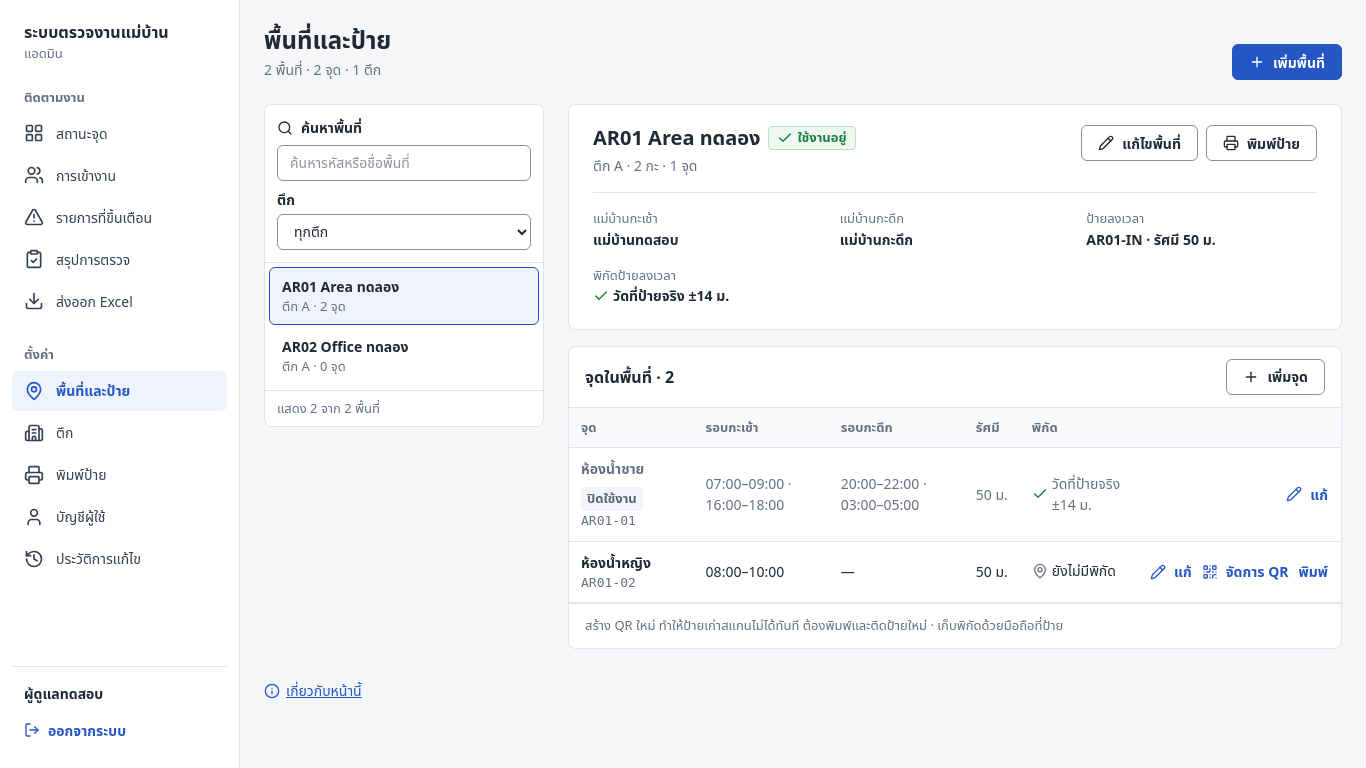
Scenario: SignPanel (D4, facility-0045, 0038, 0021) › a deactivated point gets no new QR (facility-0021 rule 4)
Click the button with aria-label "แก้ไข AR01-01" at (1307, 494), box [1285,476,1329,512]
(page scrolled)
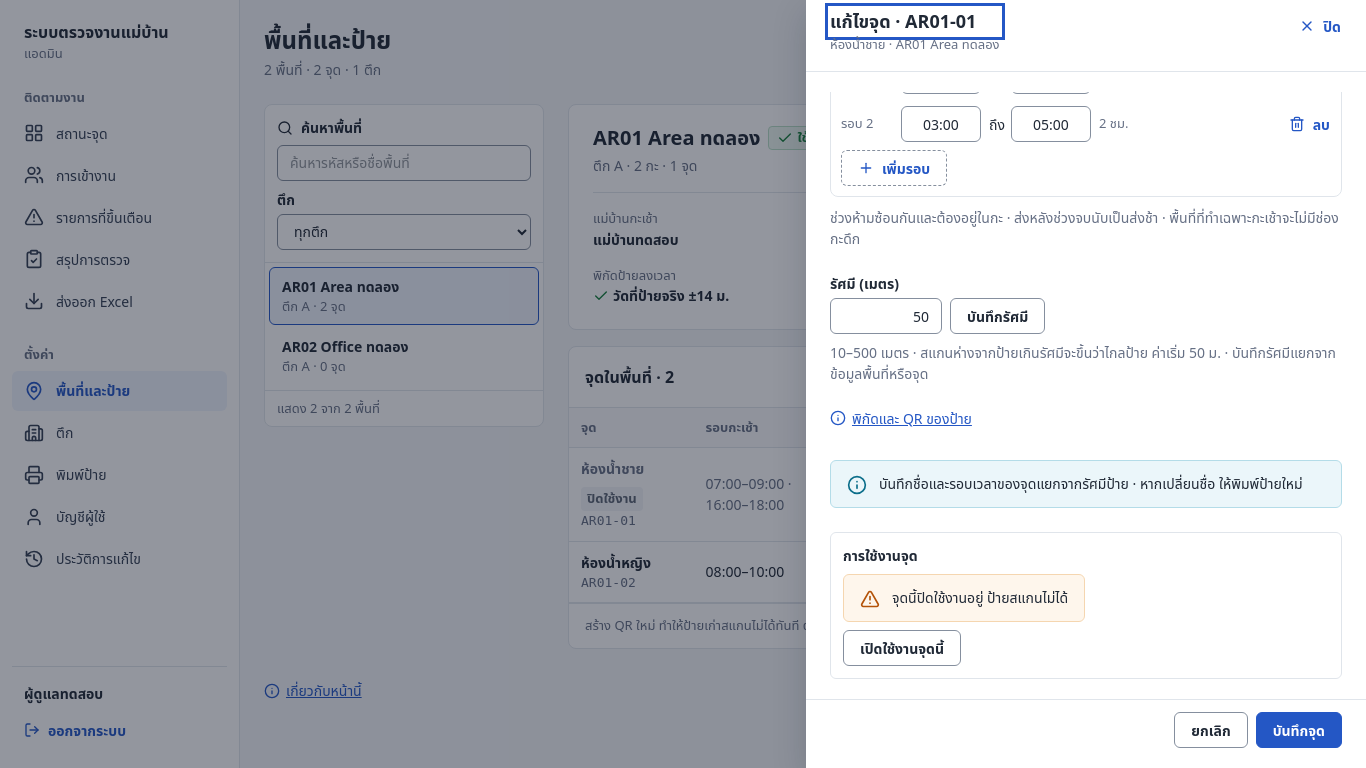
Click the heading "พิกัดและ QR ของป้าย" at (901, 418), box [830,408,972,428]
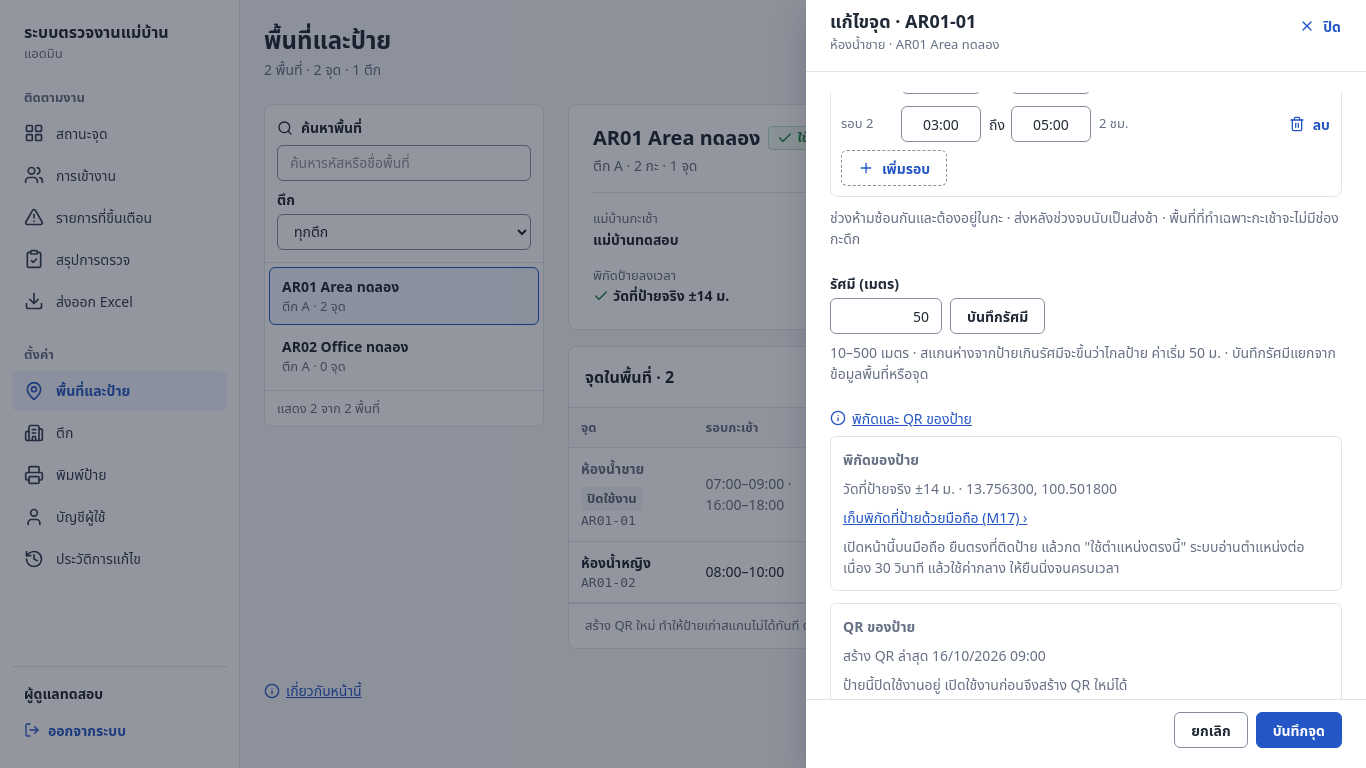
Expected: the text "ป้ายนี้ปิดใช้งานอยู่ เปิดใช้งานก่อนจึงสร้าง QR ใหม่ได้" is shown, [843,675,1128,694]
